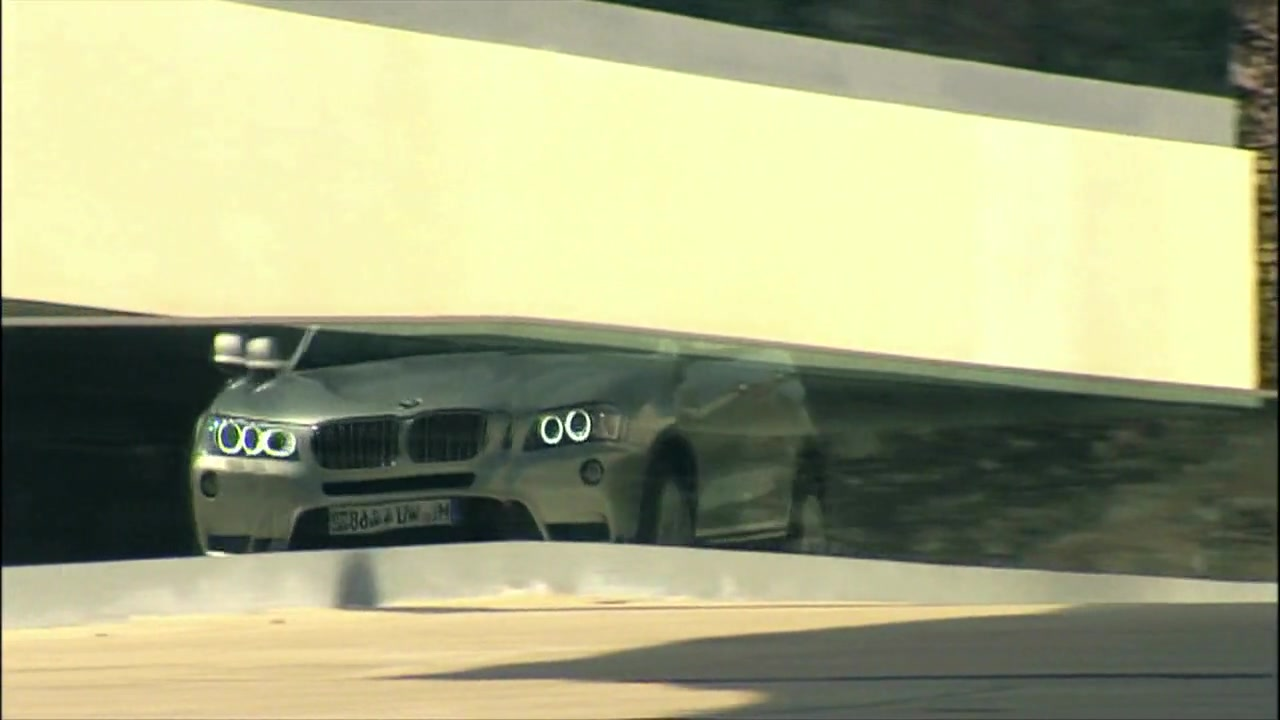car: (186, 330, 831, 563)
